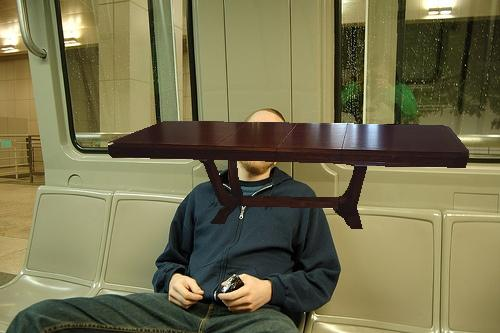tampered: (109, 122, 469, 229)
